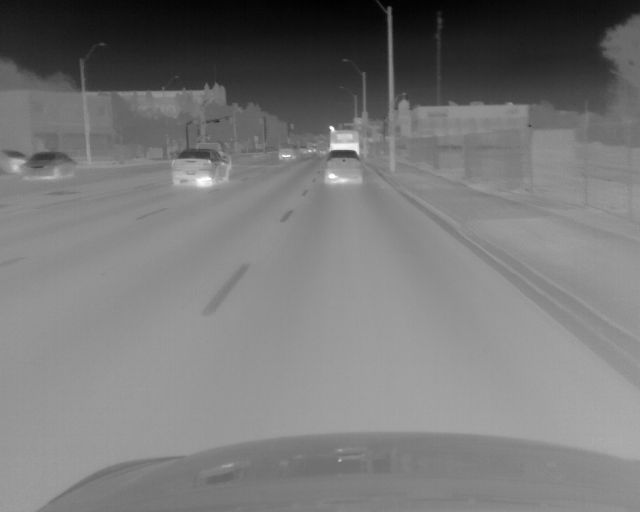car: (170, 149, 232, 189), (22, 152, 76, 180), (322, 149, 363, 185), (330, 129, 359, 156), (1, 149, 26, 175), (194, 141, 230, 158), (276, 143, 297, 161), (298, 142, 310, 156)
